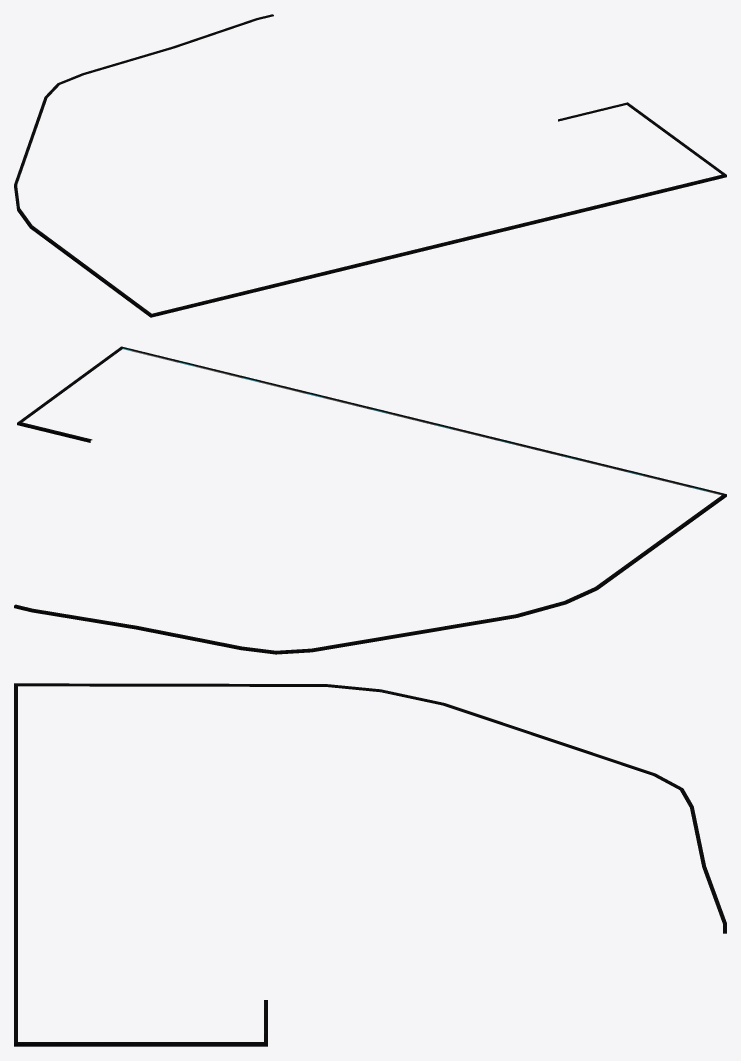
File: downtown_sidewalk_2.fbx
The picture shows the model from 3 angles, top to bottom: view 1: azimuth 30°, elevation 25°; view 2: azimuth 150°, elevation 25°; view 3: azimuth 270°, elevation 25°; orthographic projection. The views are drawn at different scales.
Visible parts, largest first — view 1: Line043; view 2: Line043; view 3: Line043.
Boxes of the visible parts, <box> form: Line043: <box>14,14,726,317</box>; Line043: <box>14,346,726,654</box>; Line043: <box>14,683,726,1046</box>.
Bounding box in the file's own units: 3918 × 15 × 3277.
